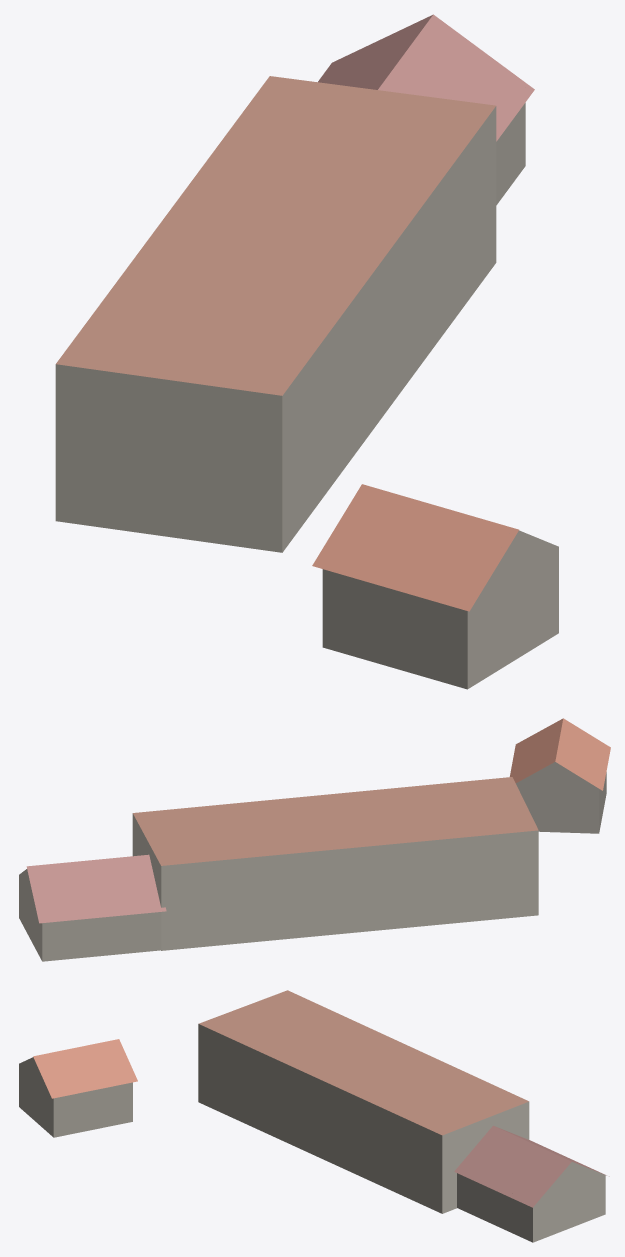
3 renders of one model, top to bottom at view 1: azimuth 30°, elevation 25°; view 2: azimuth 150°, elevation 25°; view 3: azimuth 270°, elevation 25°, orthographic. The views are drawn at different scales.
Parts seen in each view (by area): view 1: tuile; view 2: tuile; view 3: tuile.
Part boxes in pixels (left/top/right/bottom): tuile: left=55, top=14, right=558, bottom=689; tuile: left=19, top=718, right=610, bottom=961; tuile: left=19, top=990, right=609, bottom=1242.
Bounding box in the file's own units: 38.93 × 8.4 × 55.56.
